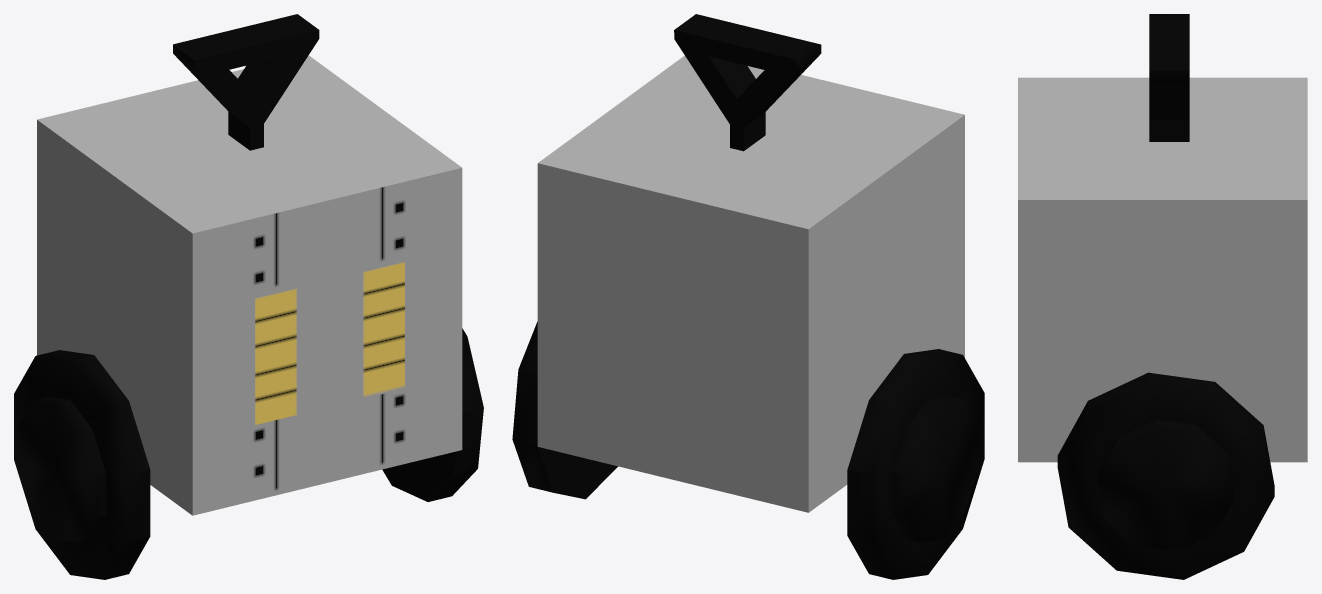
Rendered from antena-taiya.glb.
3 views of the same model, side by side, from view 1: azimuth 30°, elevation 25°; view 2: azimuth 150°, elevation 25°; view 3: azimuth 270°, elevation 25° (orthographic). The views are drawn at different scales.
Parts seen in each view (by area): view 1: haco_taiya1:pCube1, haco_taiya1:pCylinder4, pPlane8, haco_taiya1:pPlane1, haco_taiya1:pPlane2, haco_taiya1:pCylinder3; view 2: haco_taiya1:pCube1, haco_taiya1:pCylinder4, pPlane8, haco_taiya1:pCylinder3; view 3: haco_taiya1:pCube1, haco_taiya1:pCylinder3, pPlane8.
Part boxes in pixels (x1,y1,x2,y2): haco_taiya1:pCube1: (37, 55, 462, 515); haco_taiya1:pCylinder4: (14, 350, 150, 579); pPlane8: (173, 14, 319, 150); haco_taiya1:pPlane1: (255, 288, 296, 424); haco_taiya1:pPlane2: (363, 262, 404, 398); haco_taiya1:pCylinder3: (382, 328, 483, 501); haco_taiya1:pCube1: (537, 55, 964, 512); haco_taiya1:pCylinder4: (847, 349, 984, 579); pPlane8: (674, 14, 821, 151); haco_taiya1:pCylinder3: (512, 321, 617, 499); haco_taiya1:pCube1: (1018, 77, 1307, 462); haco_taiya1:pCylinder3: (1057, 372, 1274, 579); pPlane8: (1149, 14, 1189, 141).
Bounding box in the file's own units: 0.0716 × 0.0874 × 0.0508.
2 materials, 2 textured.
